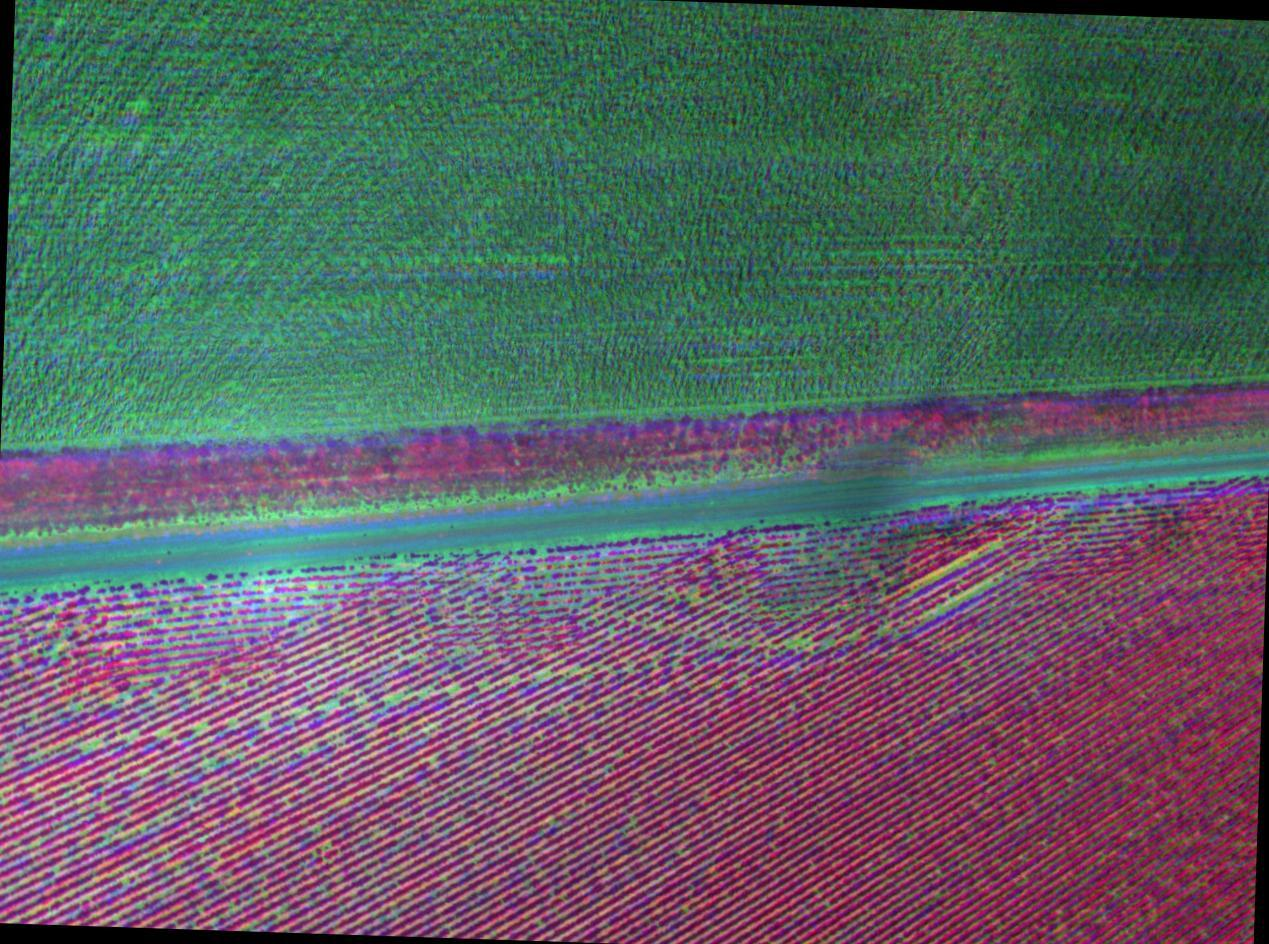dc: (204, 760, 213, 769), (789, 638, 797, 646), (881, 627, 888, 633)
